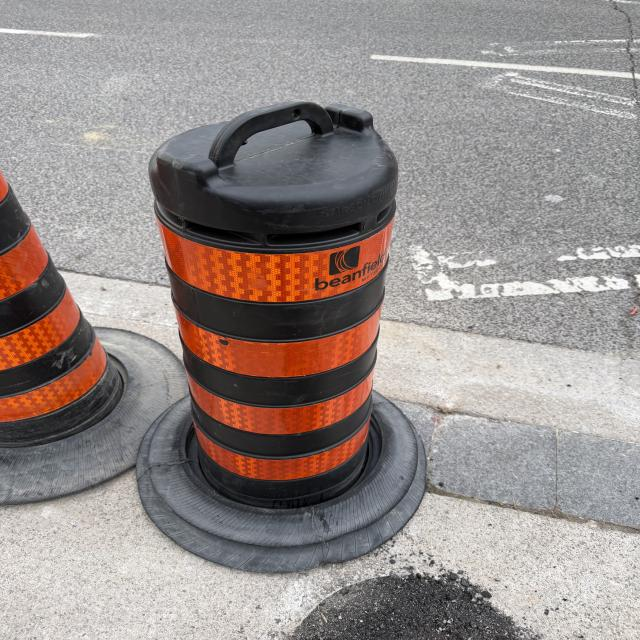Teraffic Barrel: (138, 102, 424, 571), (0, 174, 185, 504)
